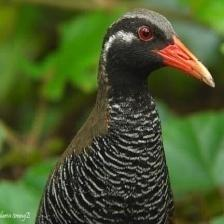bird: (35, 9, 214, 223)
